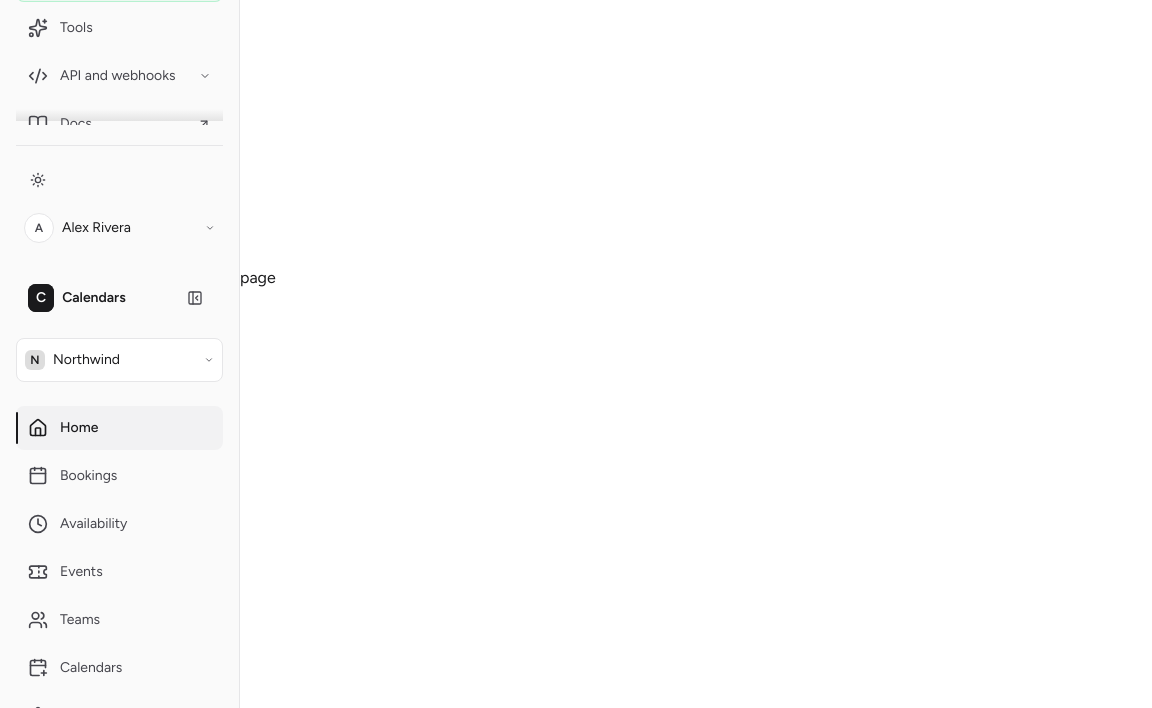
Scenario: AdminShell: the rail menus by keyboard › keeps Tab inside the account picker (a dialog) until it steps off either end
The image size is (1152, 708).
(page scrolled)
Click the button with test id "account-switcher-trigger" at [120, 360], box x1=16 y1=338 x2=223 y2=382
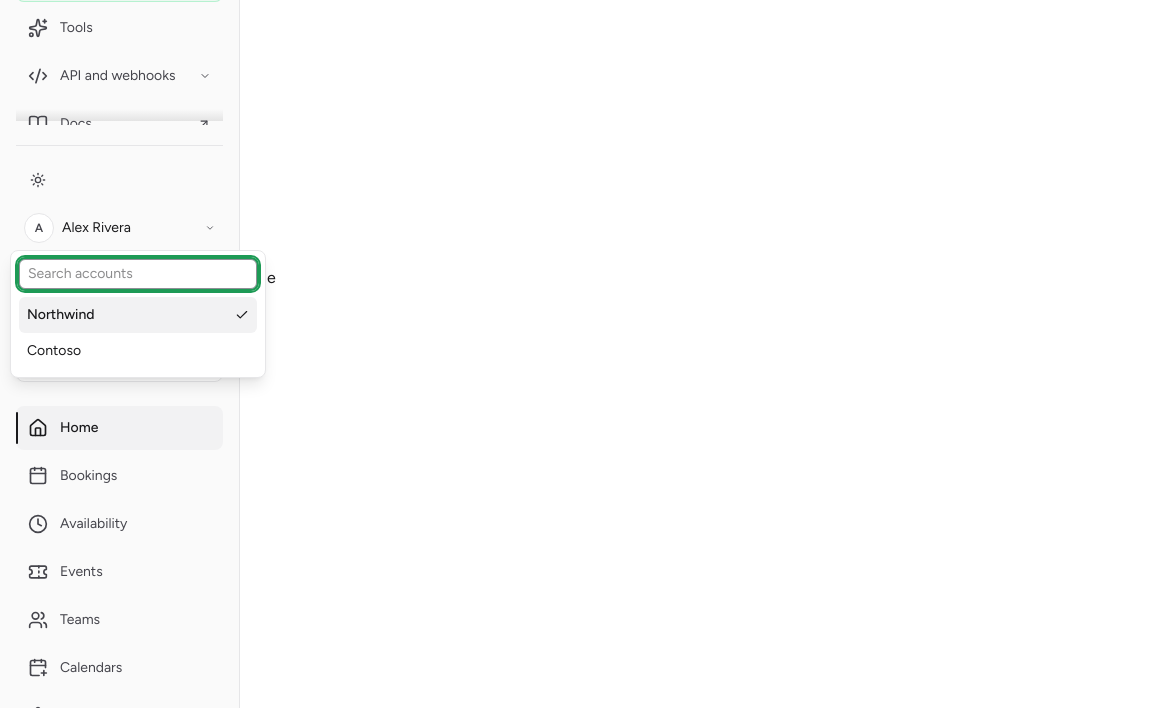
Press Tab in the search field with placeholder "Search accounts", box x1=19 y1=259 x2=257 y2=289
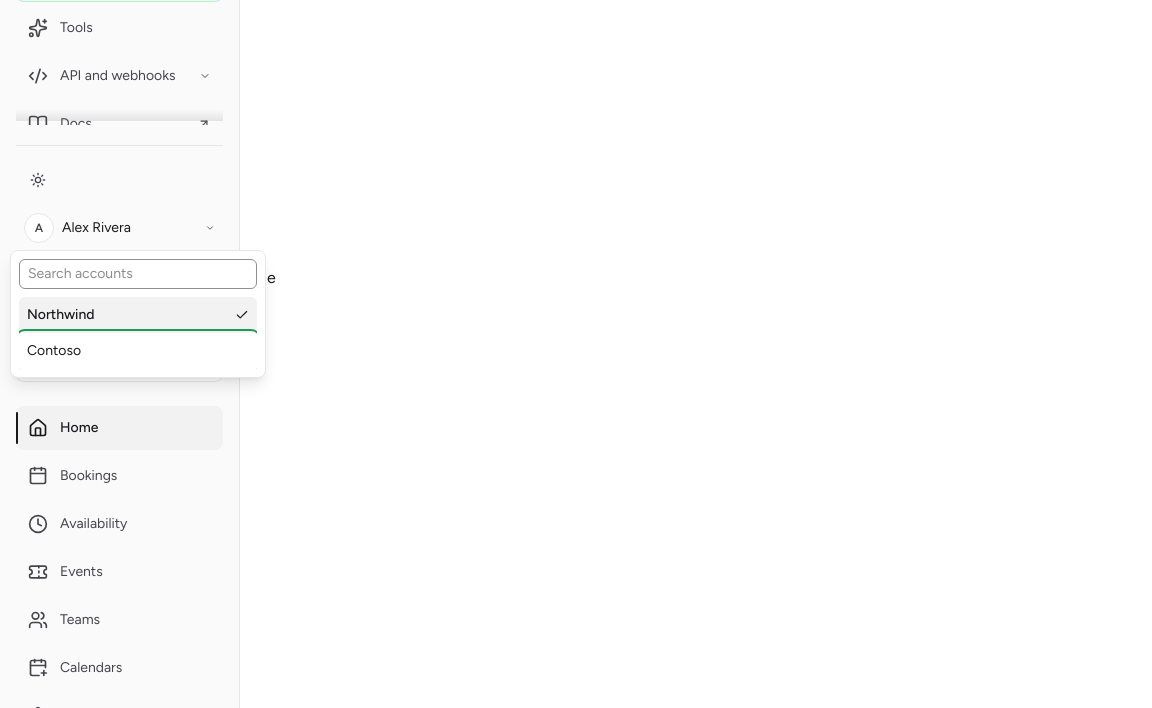
Result: the dialog with test id "account-switcher-menu" is shown at x1=10 y1=250 x2=266 y2=378
Press Tab in the button "Contoso", box x1=19 y1=333 x2=257 y2=369
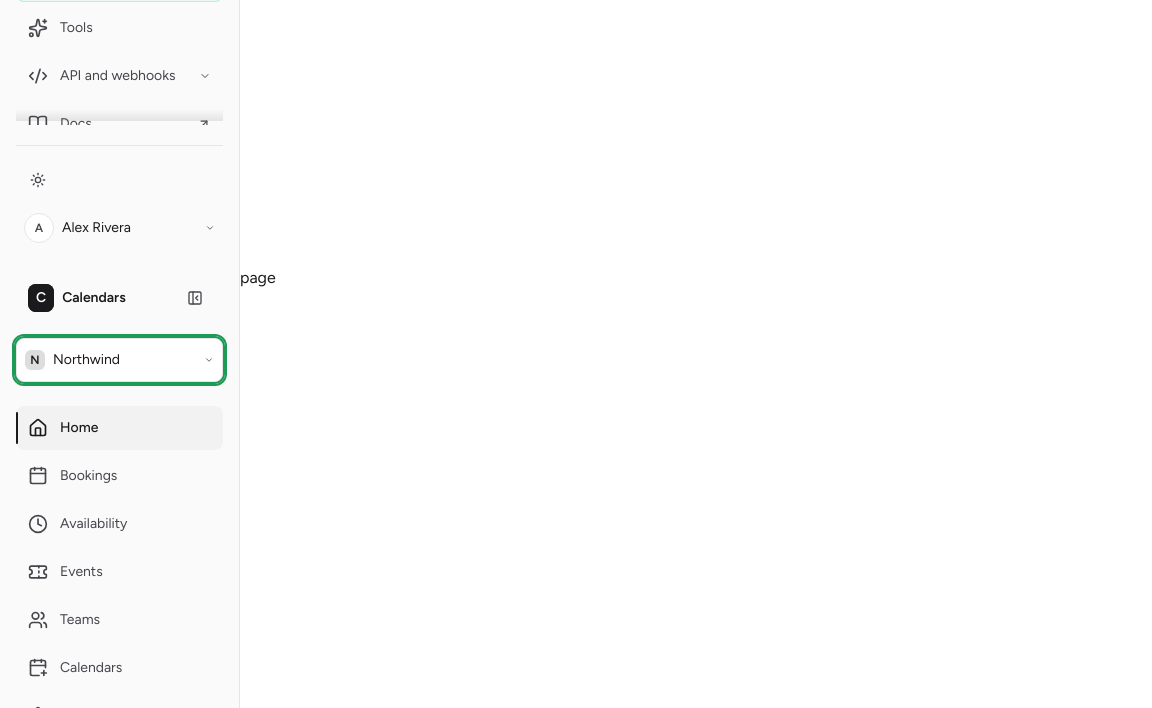
Result: the dialog with test id "account-switcher-menu" is gone
